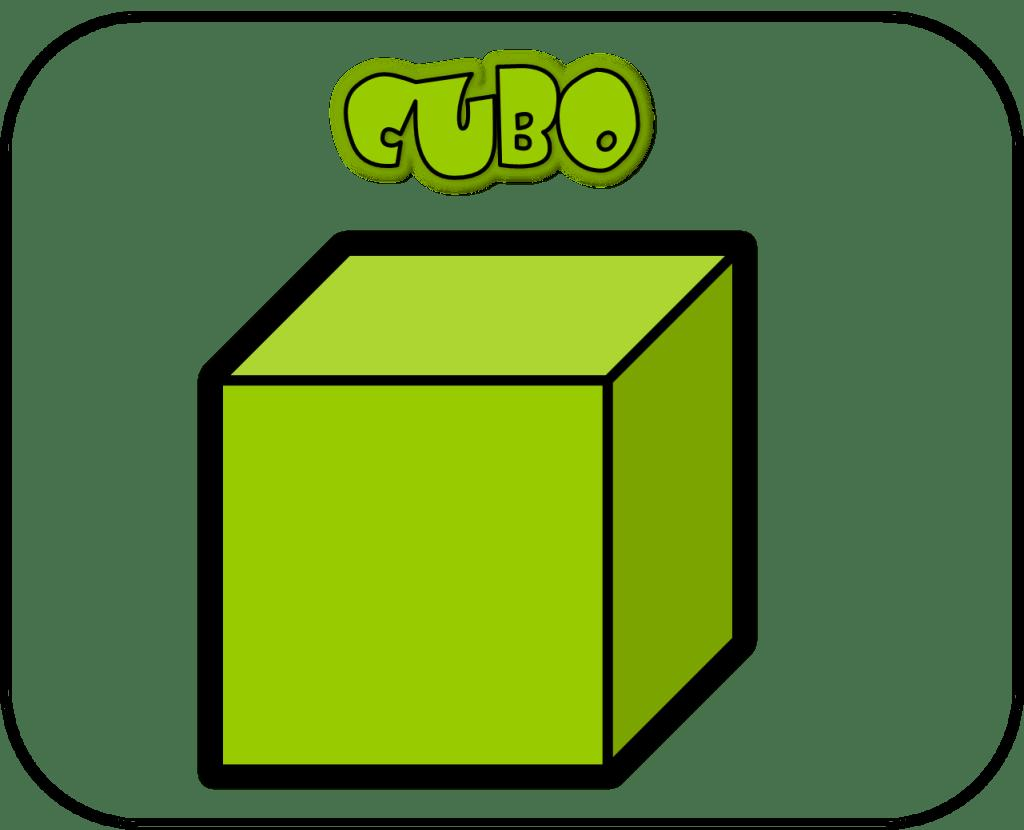cubos: (180, 218, 780, 802)
